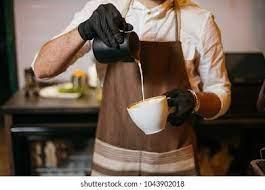apron: (75, 2, 130, 42), (163, 88, 194, 122)
